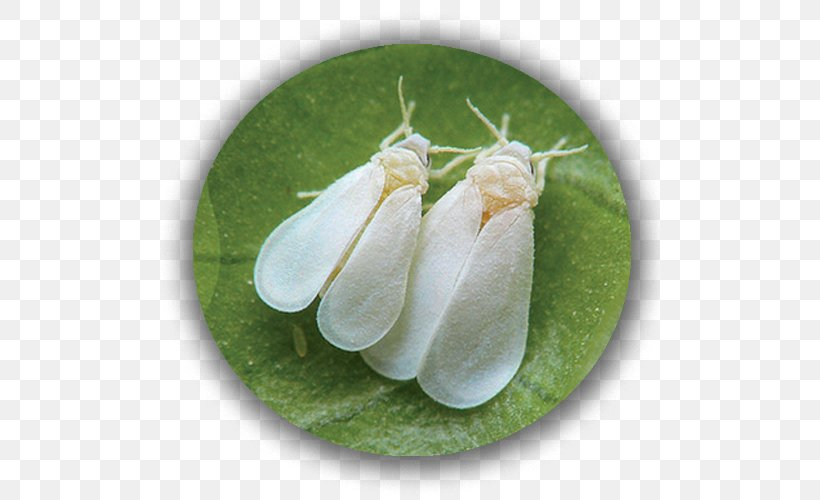Tobacco Whitefly: (394, 129, 553, 414), (269, 110, 425, 343)
